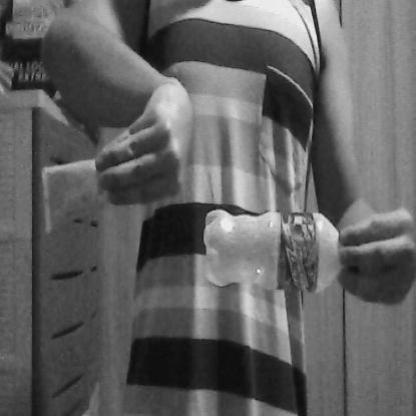Plastic Bottle: (193, 193, 363, 312)
